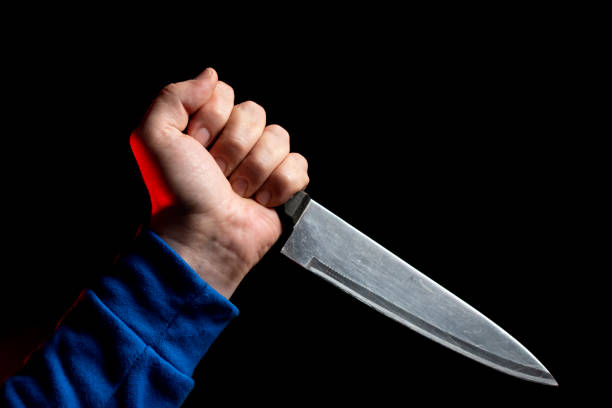knife: (274, 186, 562, 389)
